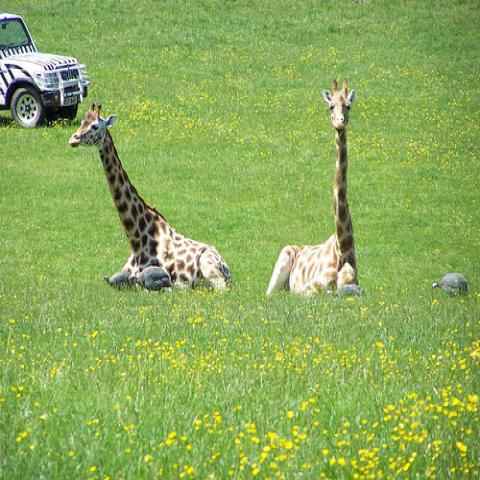car: (1, 13, 89, 127)
truck: (0, 15, 92, 129)
